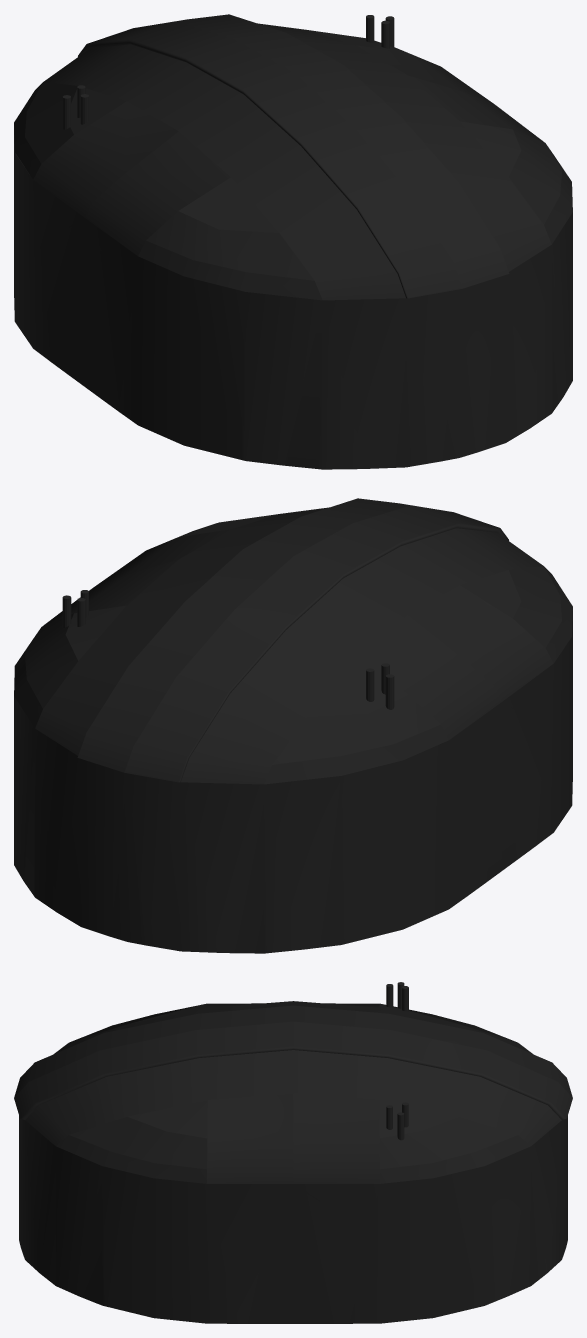
Rendered from Stage_ver7.fbx.
3 views of the same model, one above another, from view 1: azimuth 30°, elevation 25°; view 2: azimuth 150°, elevation 25°; view 3: azimuth 270°, elevation 25° (orthographic). The views are drawn at different scales.
Visible parts, largest first — view 1: Ceiling, Pillar1, Pillar2; view 2: Ceiling, Pillar1, Pillar2; view 3: Ceiling, Pillar2, Pillar1.
Part boxes in pixels (x1=…): Ceiling: x1=14, y1=14, x2=572, y2=469; Pillar1: x1=62, y1=85, x2=88, y2=129; Pillar2: x1=366, y1=15, x2=394, y2=48; Ceiling: x1=14, y1=498, x2=572, y2=953; Pillar1: x1=366, y1=663, x2=394, y2=709; Pillar2: x1=62, y1=590, x2=88, y2=627; Ceiling: x1=14, y1=1001, x2=572, y2=1323; Pillar2: x1=386, y1=1102, x2=408, y2=1140; Pillar1: x1=386, y1=982, x2=408, y2=1011.
Size of the model in its own units: 7083 by 4292 by 9958.
